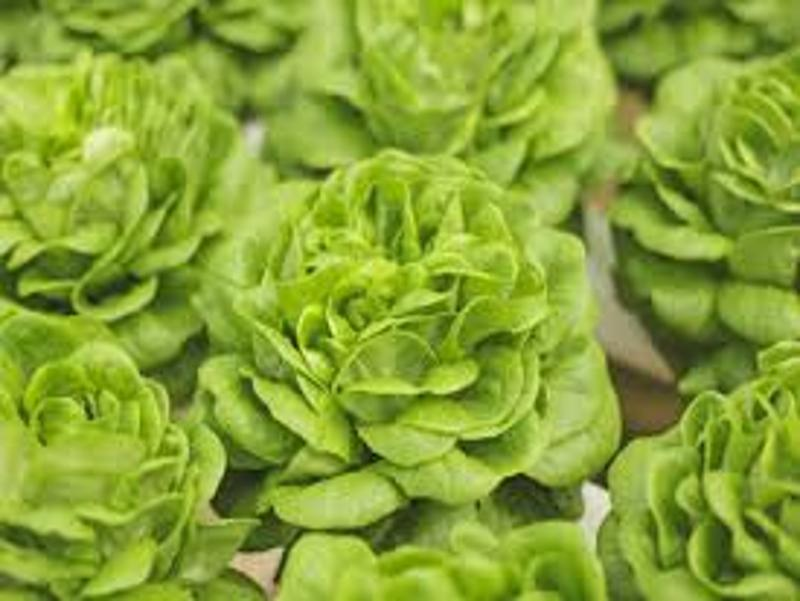cabbage: (233, 148, 601, 499), (287, 6, 623, 215), (7, 59, 254, 341), (1, 342, 233, 601), (629, 51, 800, 340), (619, 344, 795, 599)
